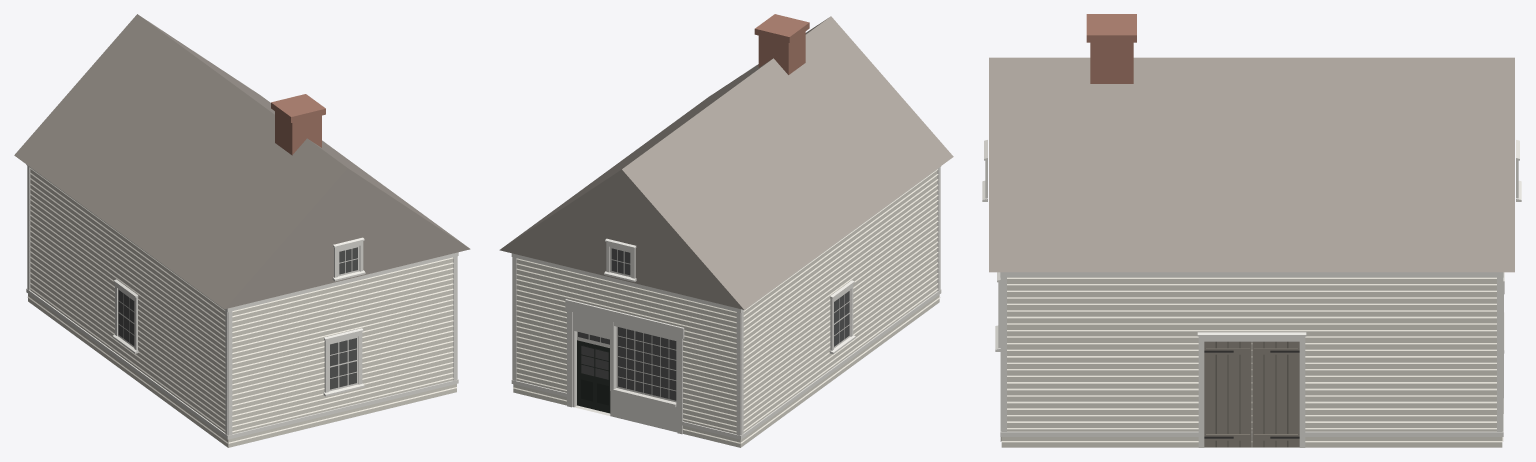
The model's file is recon_1835_blk_south_water_franklin_c2_08__inferred_1835.glb.
The picture shows the model from 3 angles, left to right: view 1: azimuth 30°, elevation 25°; view 2: azimuth 150°, elevation 25°; view 3: azimuth 270°, elevation 25°; orthographic projection. The views are drawn at different scales.
Visible parts, largest first — view 1: recon_1835_blk_south_water_franklin_c2_08__inferred_1835; view 2: recon_1835_blk_south_water_franklin_c2_08__inferred_1835; view 3: recon_1835_blk_south_water_franklin_c2_08__inferred_1835.
Part boxes in pixels (x1=…): recon_1835_blk_south_water_franklin_c2_08__inferred_1835: x1=14, y1=14, x2=470, y2=447; recon_1835_blk_south_water_franklin_c2_08__inferred_1835: x1=499, y1=14, x2=953, y2=447; recon_1835_blk_south_water_franklin_c2_08__inferred_1835: x1=982, y1=14, x2=1521, y2=447.
Size of the model in its own units: 6.91 by 7.57 by 10.47.
